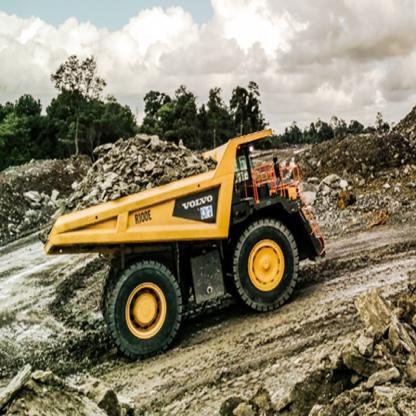dump_truck: (46, 123, 336, 358)
